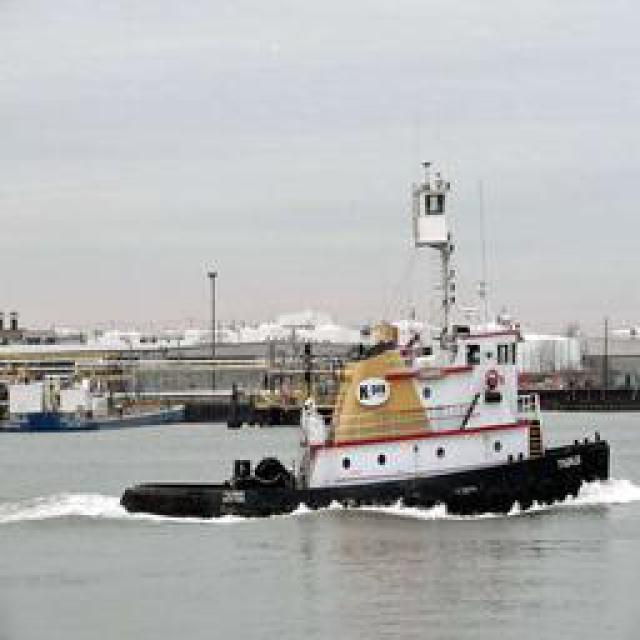Ship: (297, 148, 610, 526)
